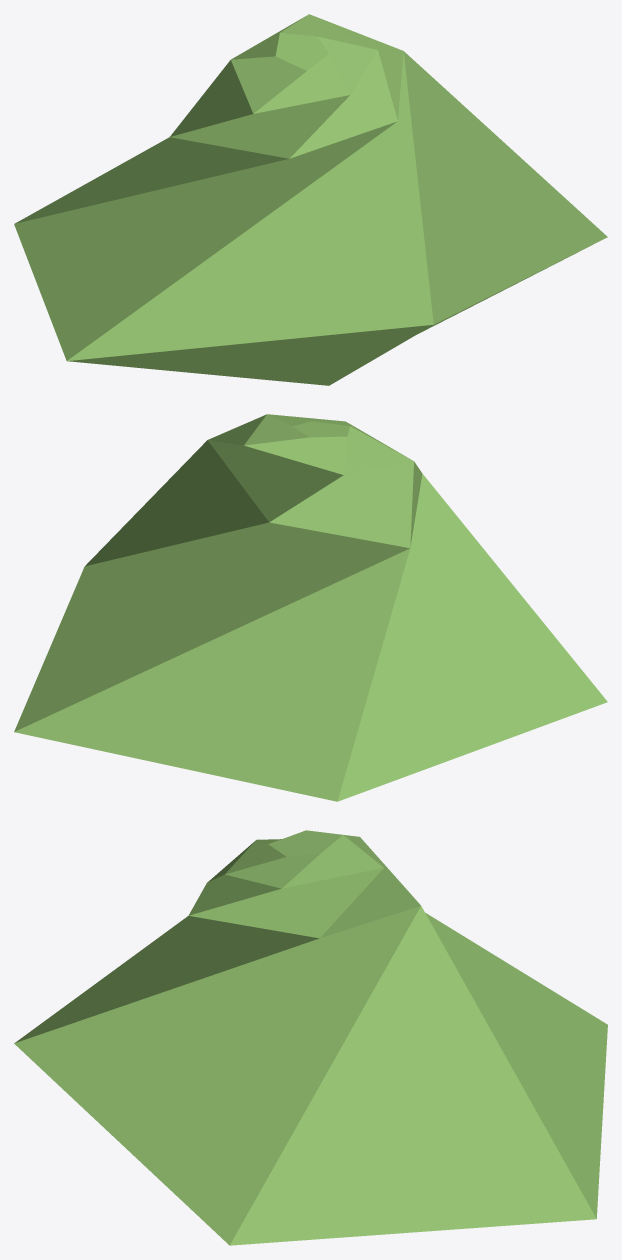
The model's file is Tree 2.fbx.
The picture shows the model from 3 angles, top to bottom: view 1: azimuth 30°, elevation 25°; view 2: azimuth 150°, elevation 25°; view 3: azimuth 270°, elevation 25°; orthographic projection. The views are drawn at different scales.
Parts seen in each view (by area): view 1: pCylinder14; view 2: pCylinder14; view 3: pCylinder14.
Part boxes in pixels (x1,y1,x2,y2): pCylinder14: (14, 14, 607, 385); pCylinder14: (14, 414, 607, 801); pCylinder14: (14, 830, 607, 1245).
Size of the model in its own units: 1.55 by 0.8843 by 1.34.
